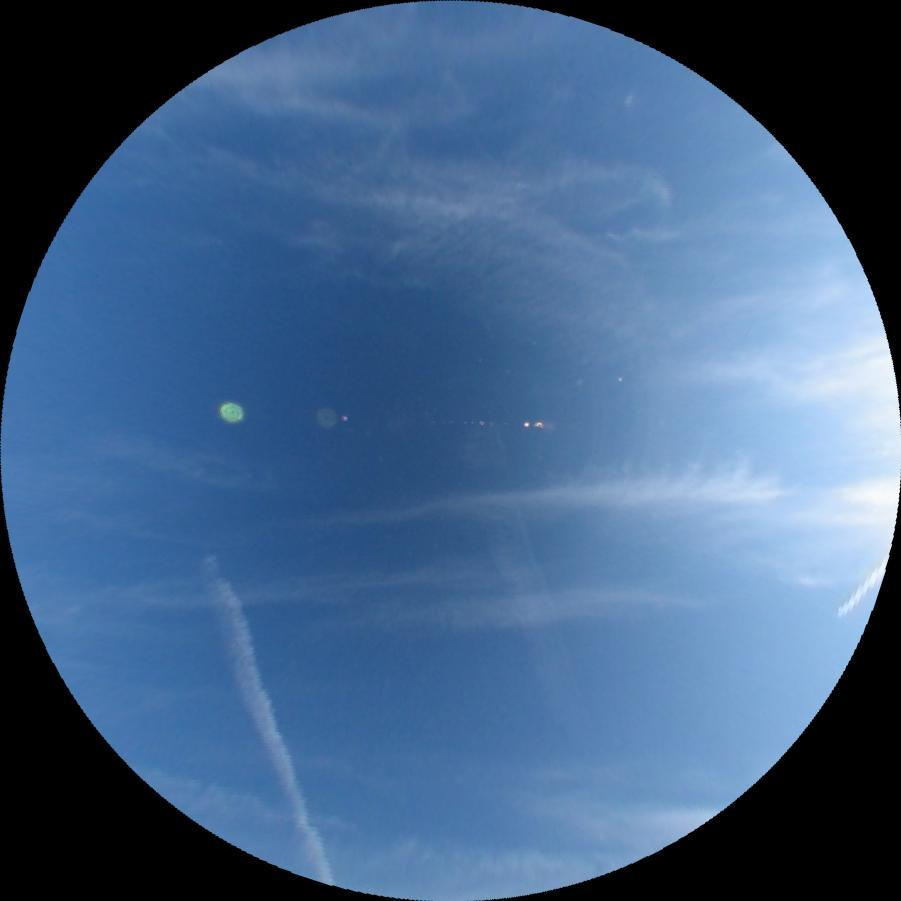contrail old: (835, 558, 893, 620)
contrail veryold: (194, 551, 337, 894), (454, 414, 596, 745)
